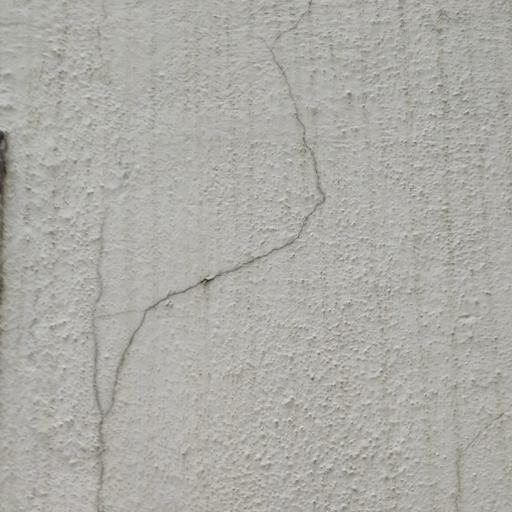minor_crack: (63, 0, 334, 512)
